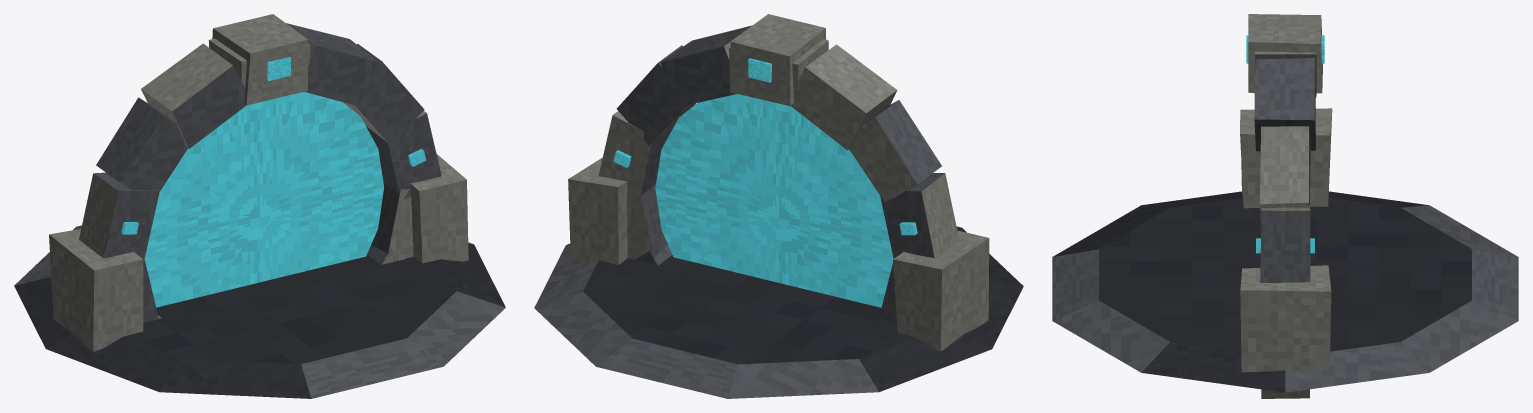
File: portal.glb
3 views of the same model, side by side, from view 1: azimuth 30°, elevation 25°; view 2: azimuth 150°, elevation 25°; view 3: azimuth 270°, elevation 25° (orthographic).
Visible parts, largest first — view 1: portal; view 2: portal; view 3: portal.
Boxes of the visible parts, bbox=[...] form: portal: bbox=[14, 14, 505, 398]; portal: bbox=[534, 14, 1023, 398]; portal: bbox=[1052, 14, 1518, 398].
Bounding box in the file's own units: 5 × 3.59 × 4.76.
Materials: 3 (3 with a texture image).
